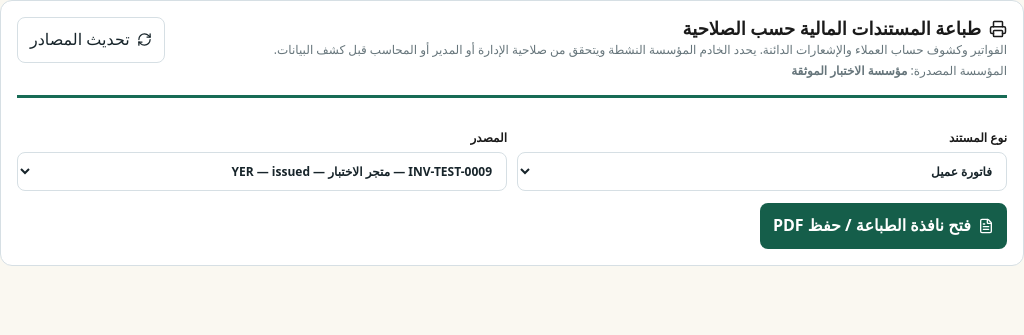
Test case: finance document printing UI › refuses a partial statement when the server full-print safety limit is exceeded
Select "كشف حساب عميل" in the dropdown named "نوع المستند المالي" at (762, 172), box [517, 152, 1007, 191]
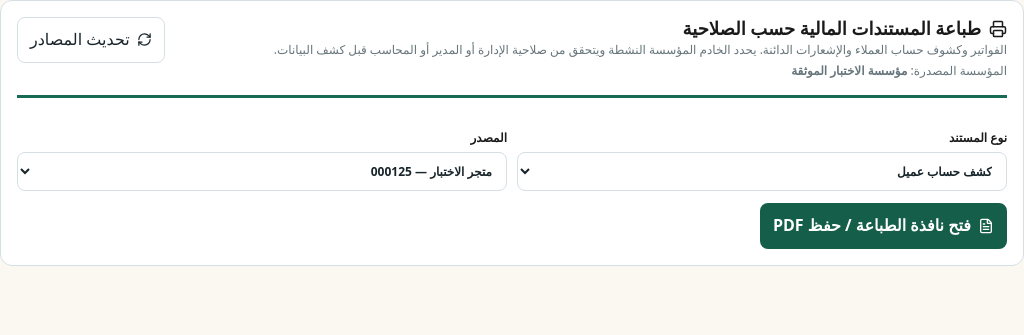
Click the button "فتح نافذة الطباعة / حفظ PDF".
click(883, 226)  # box [760, 203, 1007, 249]
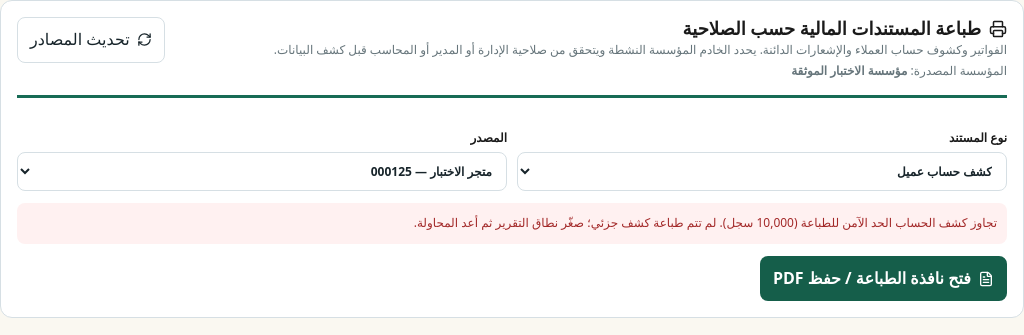
Now the message shows "10,000 سجل", box [414, 214, 997, 231]
